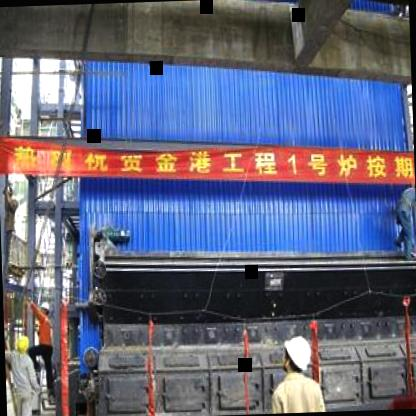helmet: (282, 333, 312, 377), (14, 331, 34, 358), (34, 297, 51, 319), (413, 327, 416, 397)
